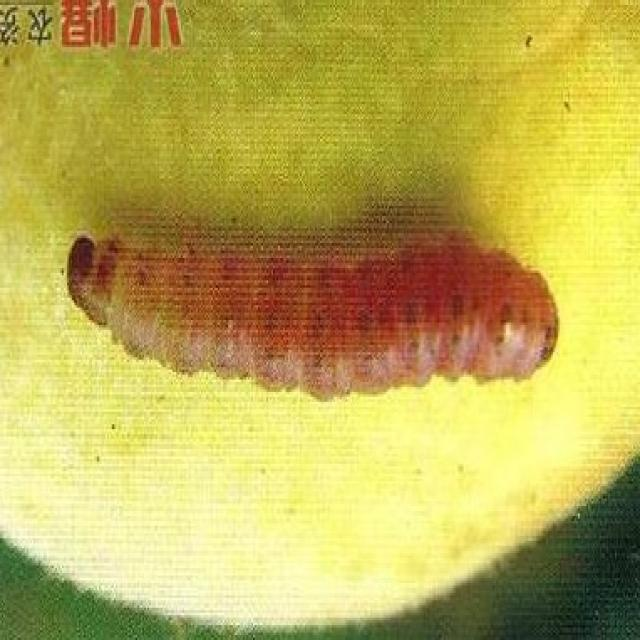peach borer: (58, 214, 557, 398)
